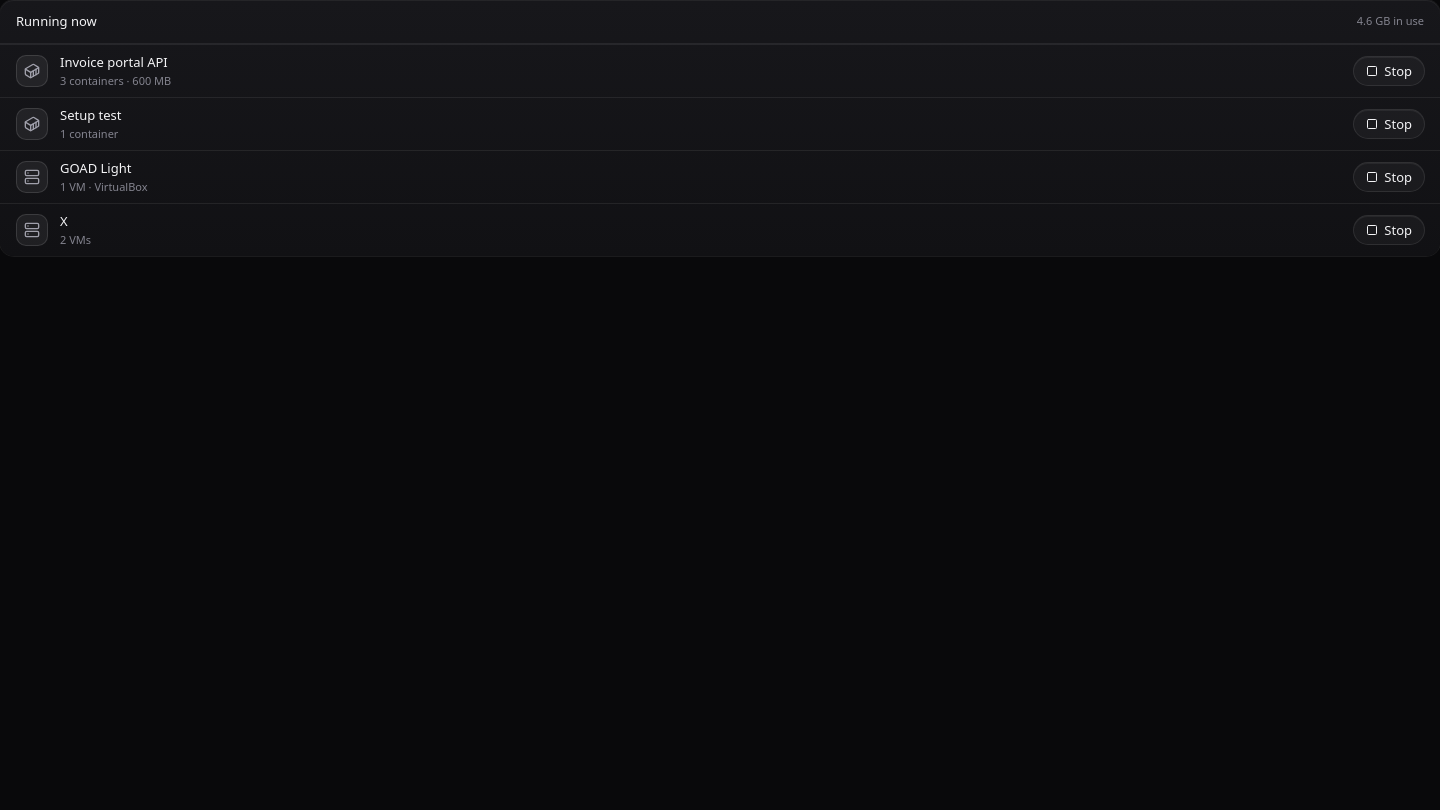
Test: RunningNowPanel › lists what runs, with lab titles, sizes and providers, and stops one
The image size is (1440, 810).
Expected: the text "X" is shown, [60,212,68,230]
Click the button "Stop" in the row of "3 containers · 600 MB" at (1389,71), box [1354,57,1424,85]
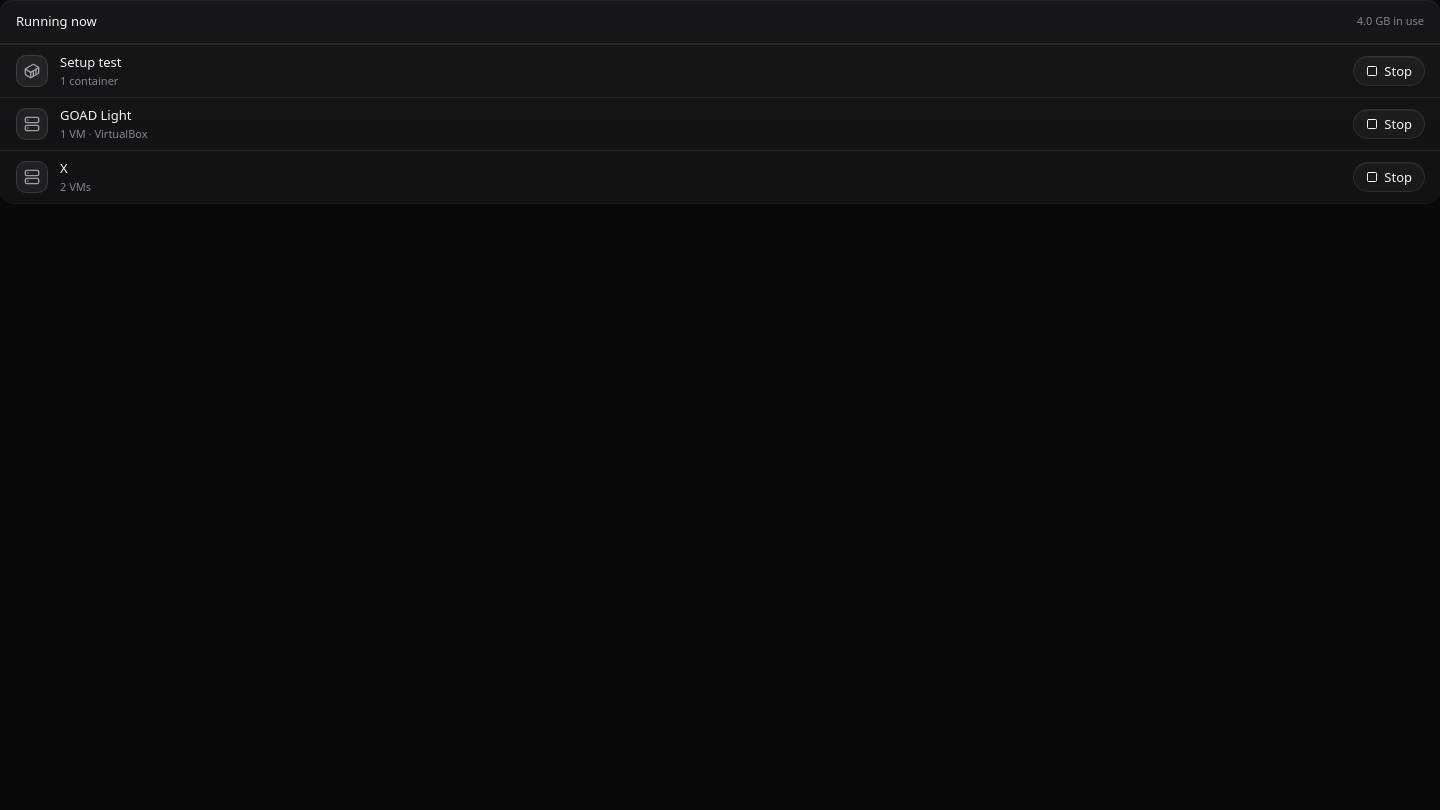
Result: the text "Invoice portal API" is gone
